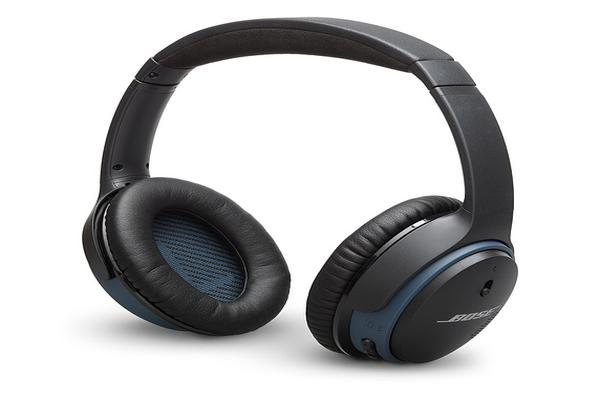headphone: (60, 29, 553, 375)
